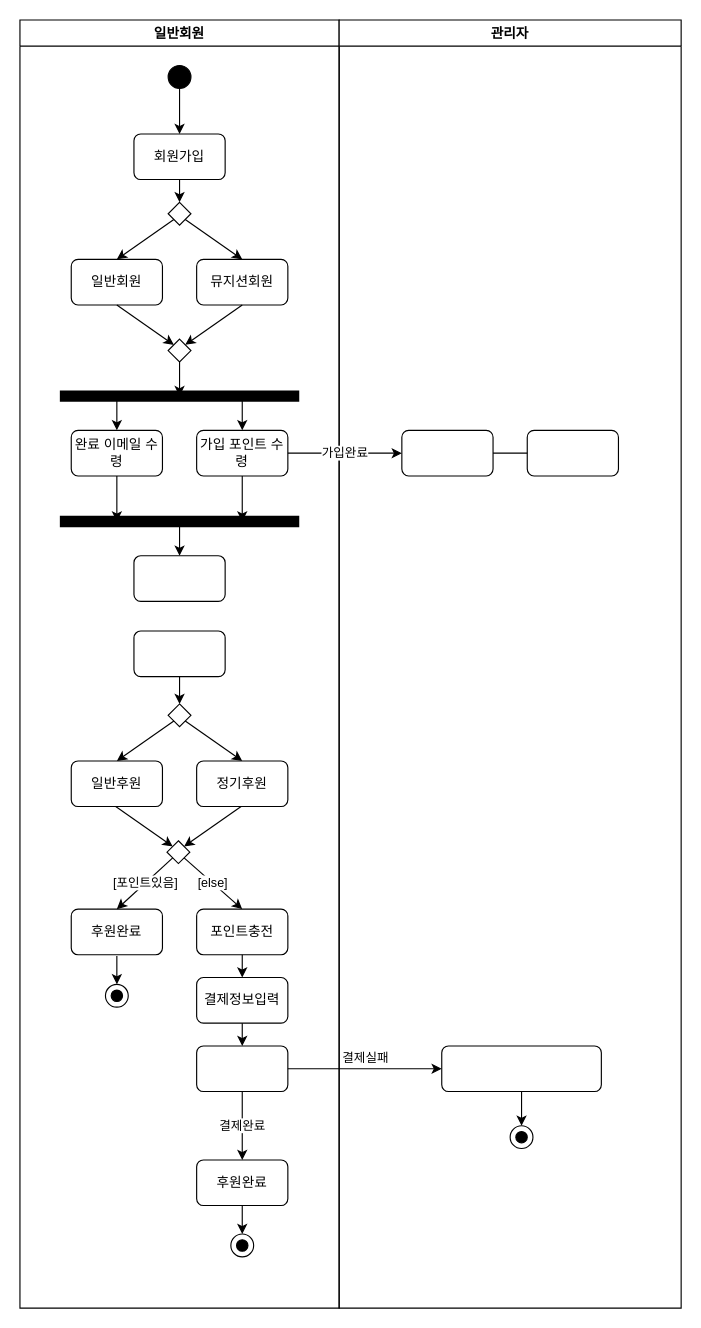
The diagram is 701 pixels wide and 1328 high, and some of its shapes have lost their labels. The centre of each missing label's shape, as x and y in pixels:
가입 포인트 지급: the point at 572,452
결제진행: the point at 242,1068
뮤지션검색: the point at 179,578
오류 안내 메일 발송: the point at 521,1068
완료 이메일 발송: the point at 447,452
후원하기: the point at 179,653
